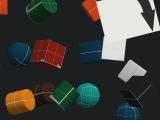Right: (96, 0, 160, 44)
